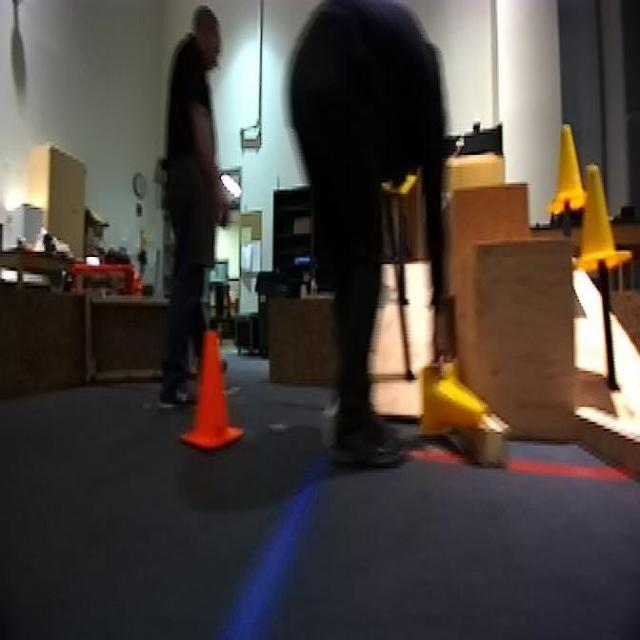frc_cone: (576, 153, 622, 279), (418, 371, 492, 444), (550, 131, 592, 211), (379, 172, 419, 196)
